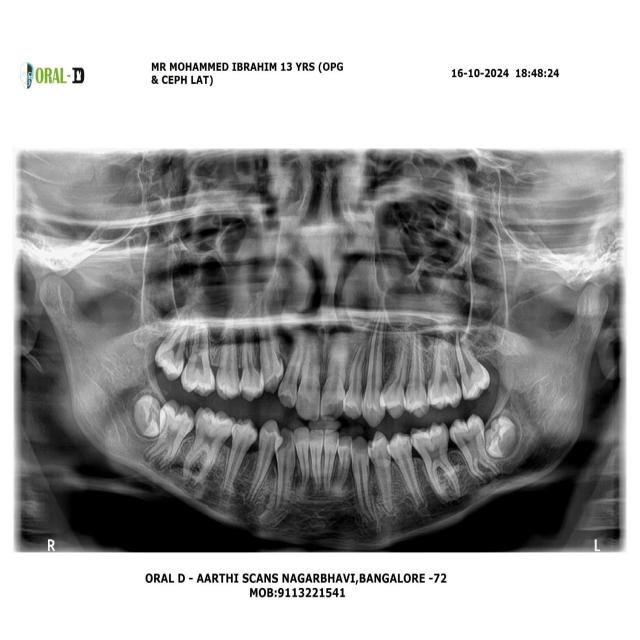Premolars: (388, 429, 426, 514), (367, 426, 395, 518)
